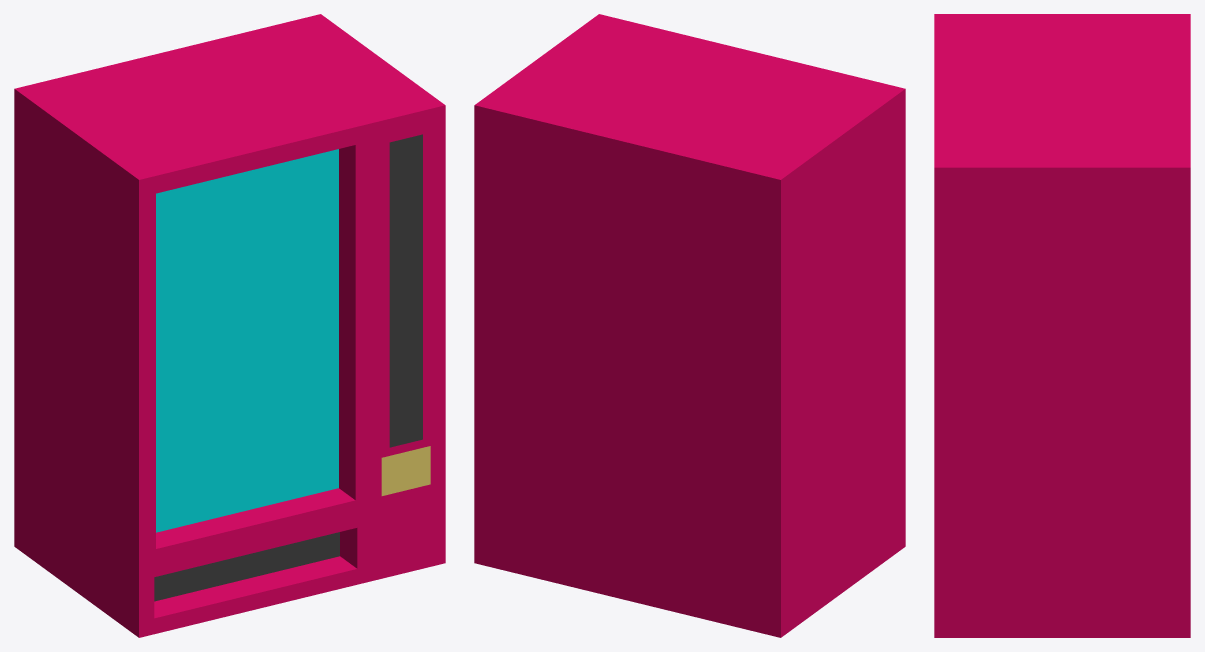
File: vendingMachine.fbx
3 views of the same model, side by side, from view 1: azimuth 30°, elevation 25°; view 2: azimuth 150°, elevation 25°; view 3: azimuth 270°, elevation 25° (orthographic). The views are drawn at different scales.
Parts seen in each view (by area): view 1: pCube128; view 2: pCube128; view 3: pCube128.
Part boxes in pixels (box(x1,y1,x2,y2)): pCube128: box(14, 14, 445, 637); pCube128: box(474, 14, 905, 637); pCube128: box(934, 14, 1190, 637).
Size of the model in its own units: 21.33 by 30.46 by 15.03.
